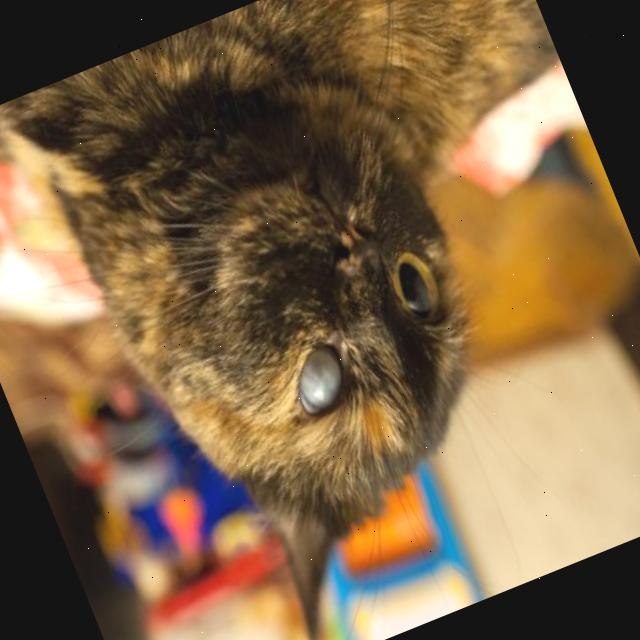cat-eye: (272, 325, 371, 433)
cat-eye-normal: (374, 234, 460, 338)
